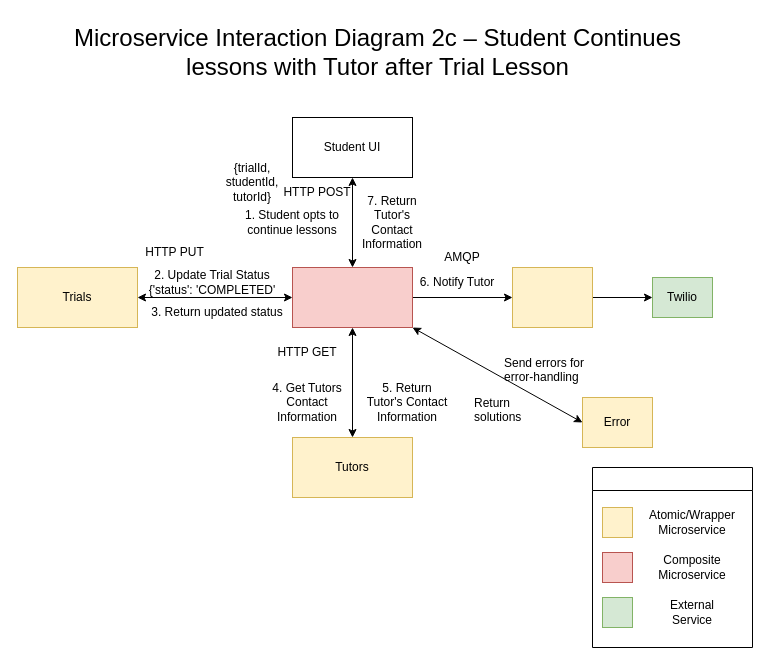
Some shapes in this 770 by 665 pixel diagram are drawn without their labels. Here are the shapes that lost their labels. From the top down, the box of each, then its label:
(292, 266, 412, 328): Continue Lessons
(512, 266, 592, 328): Notification
(592, 466, 752, 648): Legend
